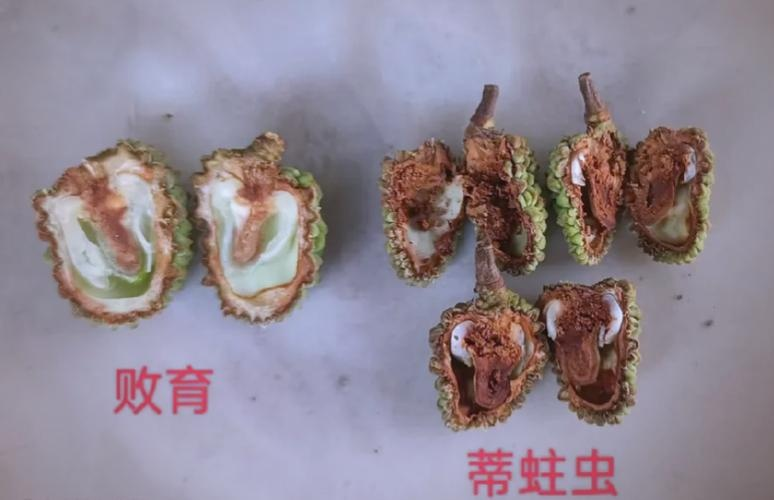Borer: (595, 279, 630, 352), (439, 323, 505, 361), (680, 148, 699, 211), (576, 128, 595, 185), (548, 300, 562, 347)
